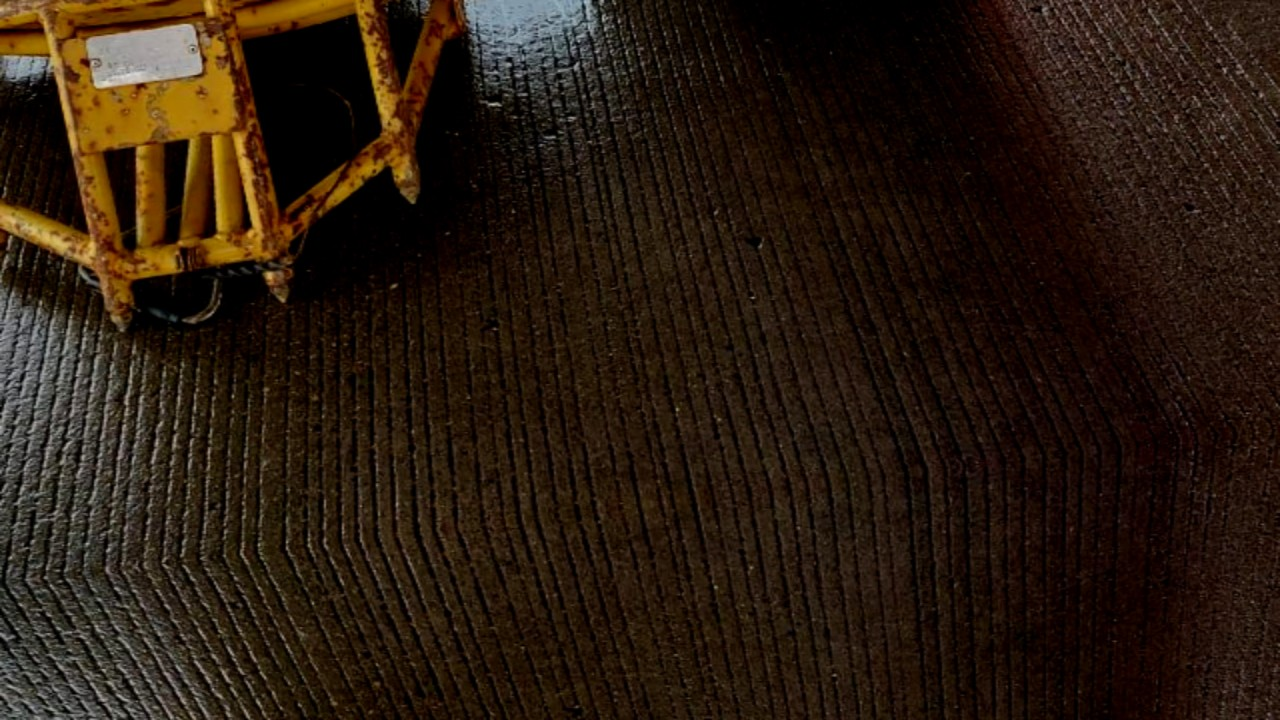chock: (0, 0, 578, 360)
